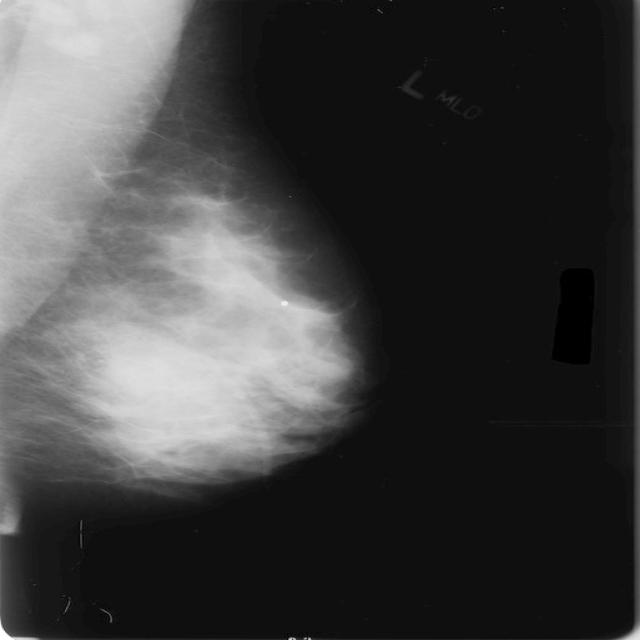tumour: (104, 334, 222, 400)
